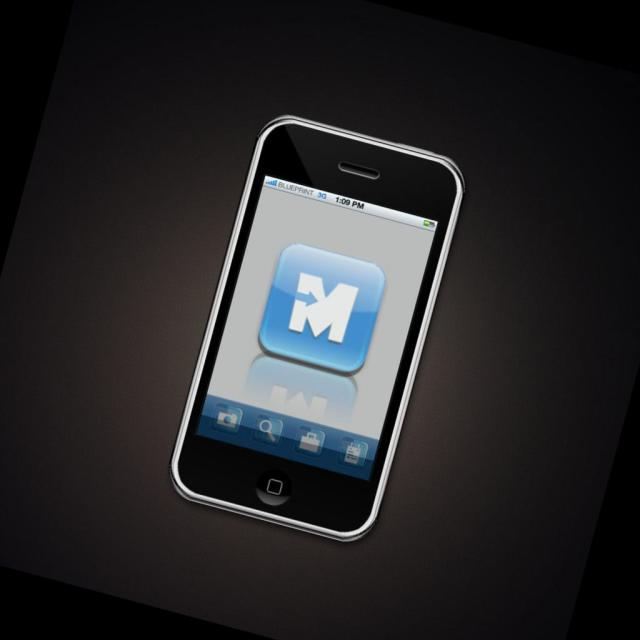handphone: (172, 113, 466, 542)
